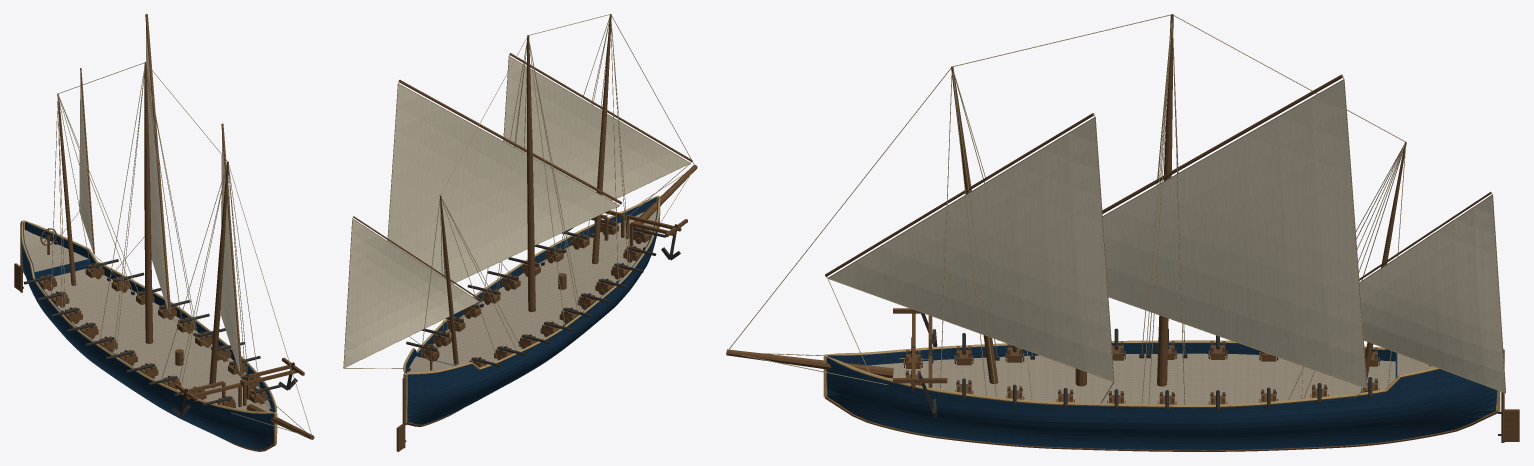
3 renders of one model, left to right at view 1: azimuth 30°, elevation 25°; view 2: azimuth 150°, elevation 25°; view 3: azimuth 270°, elevation 25°, orthographic. The views are drawn at different scales.
Visible parts, largest first — view 1: lod2_main_deck, lod2_hull_shell_starboard, lod2_main_lateen_00, lod2_main, lod2_fore_lateen_00, lod2_hull_shell_port, lod2_castle_deck_0, lod2_fore, lod2_mizzen_lateen_00, lod2_main_lateen_00_lateen_yard, lod2_gunwale_starboard, lod2_mizzen (+9 smaller); view 2: lod2_main_lateen_00, lod2_fore_lateen_00, lod2_mizzen_lateen_00, lod2_main_deck, lod2_hull_shell_starboard, lod2_main, lod2_fore, lod2_hull_shell_port, lod2_gunwale_starboard, lod2_main_lateen_00_lateen_yard, lod2_mizzen, lod2_fore_lateen_00_lateen_yard (+3 smaller); view 3: lod2_main_lateen_00, lod2_fore_lateen_00, lod2_hull_shell_port, lod2_mizzen_lateen_00, lod2_main_deck, lod2_hull_shell_starboard, lod2_gunwale_port, lod2_keel, lod2_main, lod2_bowsprit, lod2_main_lateen_00_lateen_yard, lod2_fore_lateen_00_lateen_yard (+2 smaller).
Part boxes in pixels (left/top/right/bottom): lod2_main_deck: left=44, top=268, right=272, bottom=412; lod2_hull_shell_starboard: left=22, top=222, right=273, bottom=449; lod2_main_lateen_00: left=146, top=30, right=168, bottom=310; lod2_main: left=144, top=62, right=153, bottom=343; lod2_fore_lateen_00: left=221, top=139, right=240, bottom=373; lod2_hull_shell_port: left=25, top=222, right=275, bottom=412; lod2_castle_deck_0: left=24, top=230, right=88, bottom=271; lod2_fore: left=209, top=161, right=228, bottom=387; lod2_mizzen_lateen_00: left=79, top=80, right=93, bottom=251; lod2_main_lateen_00_lateen_yard: left=145, top=14, right=171, bottom=315; lod2_gunwale_starboard: left=21, top=221, right=273, bottom=413; lod2_mizzen: left=57, top=94, right=76, bottom=285; lod2_main_lateen_00: left=388, top=84, right=618, bottom=283; lod2_fore_lateen_00: left=504, top=57, right=689, bottom=200; lod2_mizzen_lateen_00: left=344, top=219, right=478, bottom=367; lod2_main_deck: left=433, top=210, right=656, bottom=365; lod2_hull_shell_starboard: left=407, top=198, right=658, bottom=424; lod2_main: left=527, top=35, right=535, bottom=311; lod2_fore: left=592, top=14, right=611, bottom=264; lod2_hull_shell_port: left=405, top=197, right=656, bottom=373; lod2_gunwale_starboard: left=407, top=196, right=660, bottom=374; lod2_main_lateen_00_lateen_yard: left=398, top=80, right=621, bottom=204; lod2_mizzen: left=439, top=195, right=458, bottom=364; lod2_fore_lateen_00_lateen_yard: left=509, top=53, right=692, bottom=161; lod2_main_lateen_00: left=1103, top=80, right=1366, bottom=387; lod2_fore_lateen_00: left=829, top=118, right=1113, bottom=380; lod2_hull_shell_port: left=826, top=357, right=1496, bottom=450; lod2_mizzen_lateen_00: left=1359, top=196, right=1505, bottom=392; lod2_main_deck: left=868, top=353, right=1395, bottom=404; lod2_hull_shell_starboard: left=828, top=342, right=1395, bottom=365; lod2_gunwale_port: left=826, top=356, right=1439, bottom=407; lod2_keel: left=825, top=396, right=1498, bottom=451; lod2_main: left=1157, top=14, right=1173, bottom=386; lod2_bowsprit: left=726, top=349, right=893, bottom=378; lod2_main_lateen_00_lateen_yard: left=1102, top=74, right=1343, bottom=213; lod2_fore_lateen_00_lateen_yard: left=825, top=113, right=1094, bottom=276.
Bounding box in the file's own units: 8.69 × 20.12 × 33.05.
7 materials, 7 textured.
